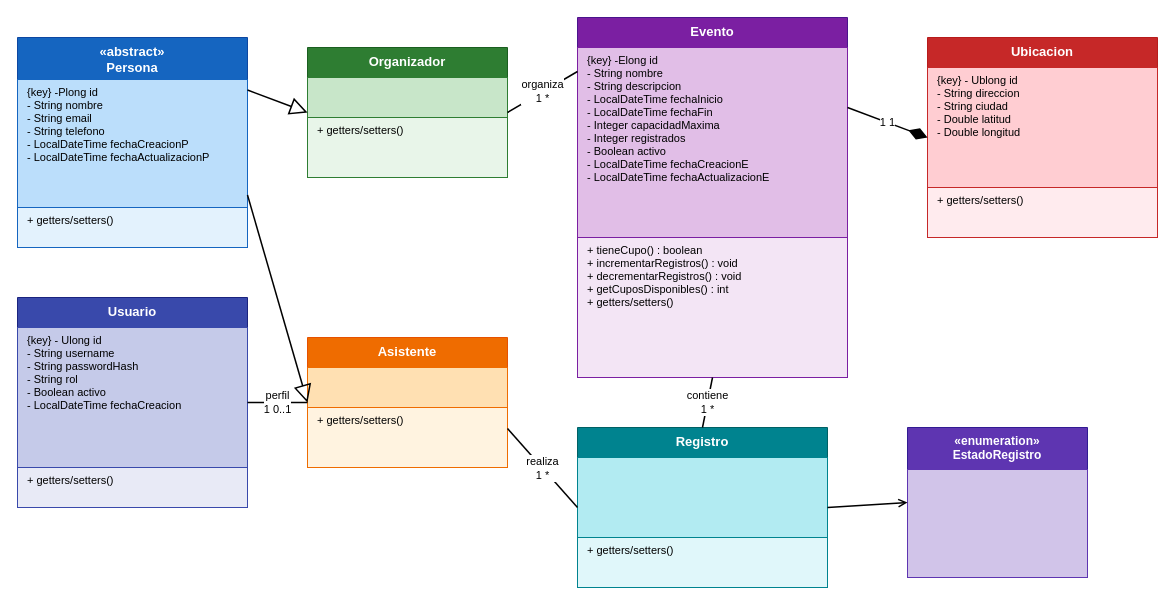
This 1175x608 diagram has some shape labels left out. Each missing label, with the centre of its shape:
"- String departamento" belongs at (x=407, y=97).
"- String documento" belongs at (x=407, y=387).
"CONFIRMADO LISTA_ESPERA CANCELADO" belongs at (x=997, y=523).
"{key} - Rlong id - EstadoRegistro estado - LocalDateTime fechaRegistro" belongs at (x=702, y=497).
